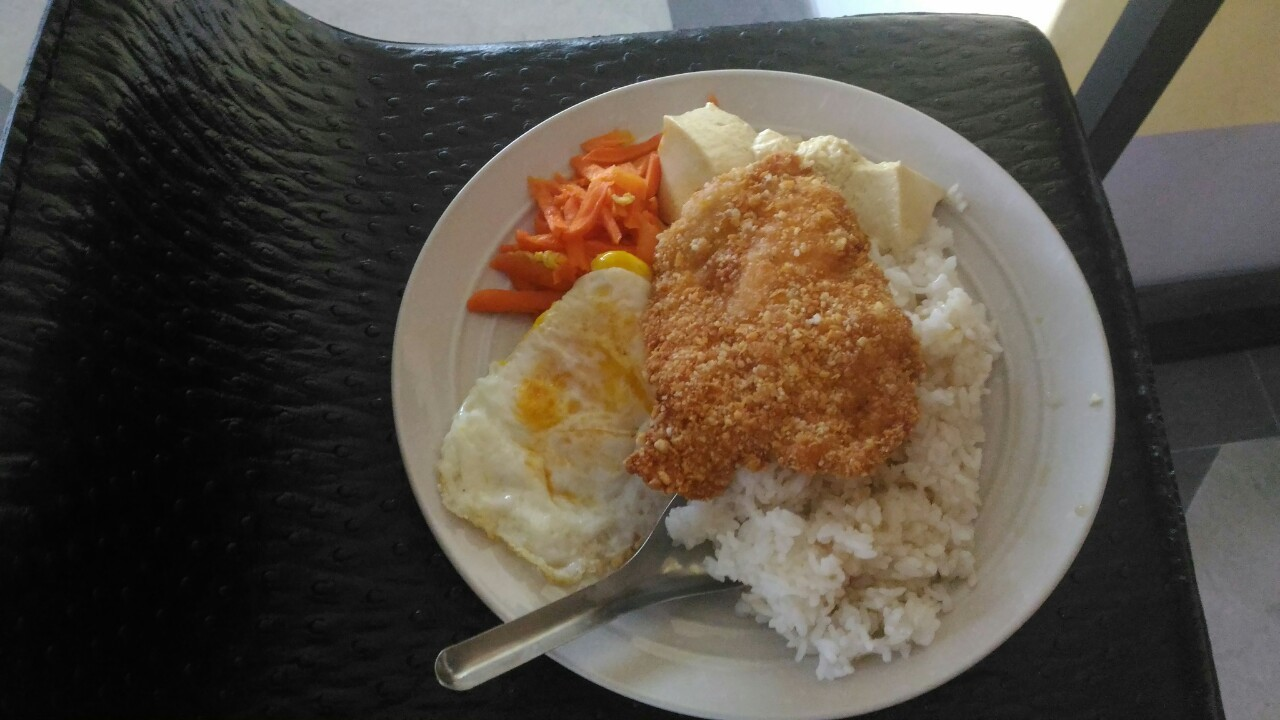carrot_eggs: (477, 129, 660, 300)
fried_chicken: (651, 151, 924, 503)
fried_eggs: (441, 265, 647, 578)
rice: (726, 490, 965, 649)
